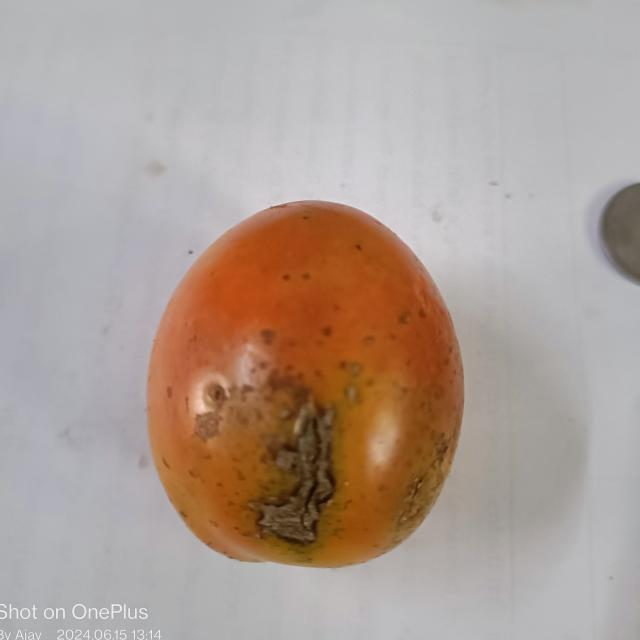Bacterial_Spot: (248, 372, 336, 558)
